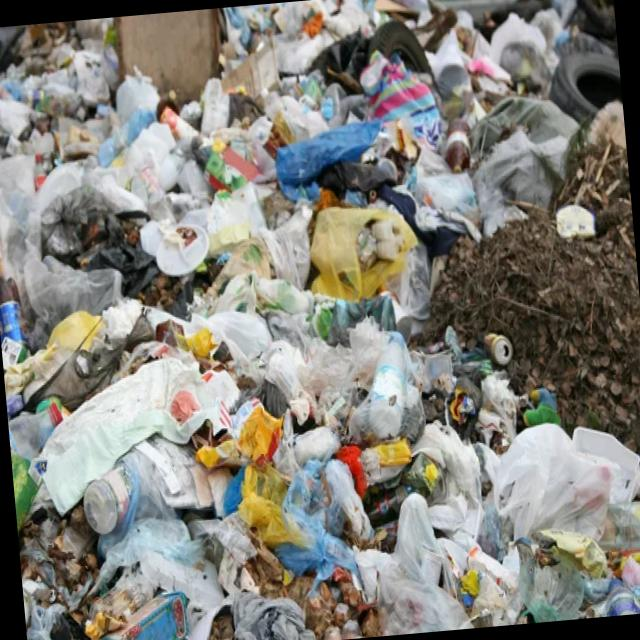garbage: (18, 27, 634, 615)
